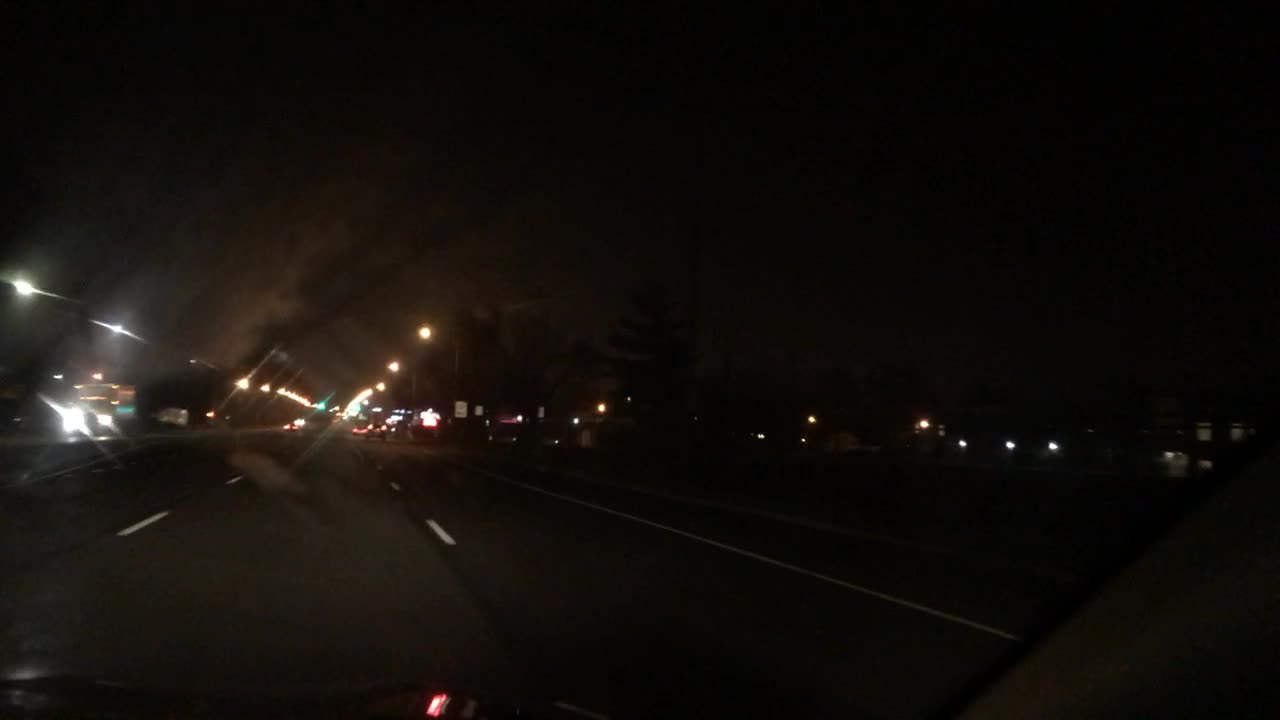car: (63, 409, 112, 436), (537, 417, 575, 447), (484, 416, 521, 446), (409, 409, 442, 440), (364, 416, 390, 439), (351, 420, 365, 436), (283, 421, 305, 431)
traffic sign: (452, 400, 466, 419)
